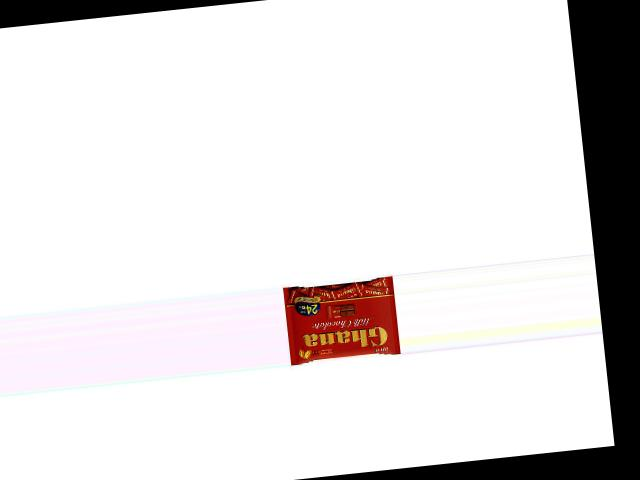chocolate: (281, 273, 398, 363)
